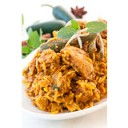briyani: (25, 35, 110, 105)
